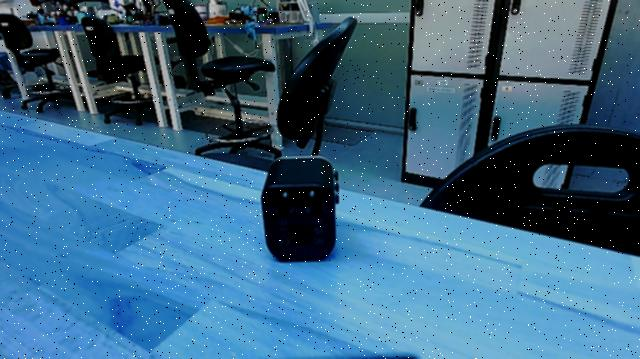adapter: (260, 156, 344, 266)
